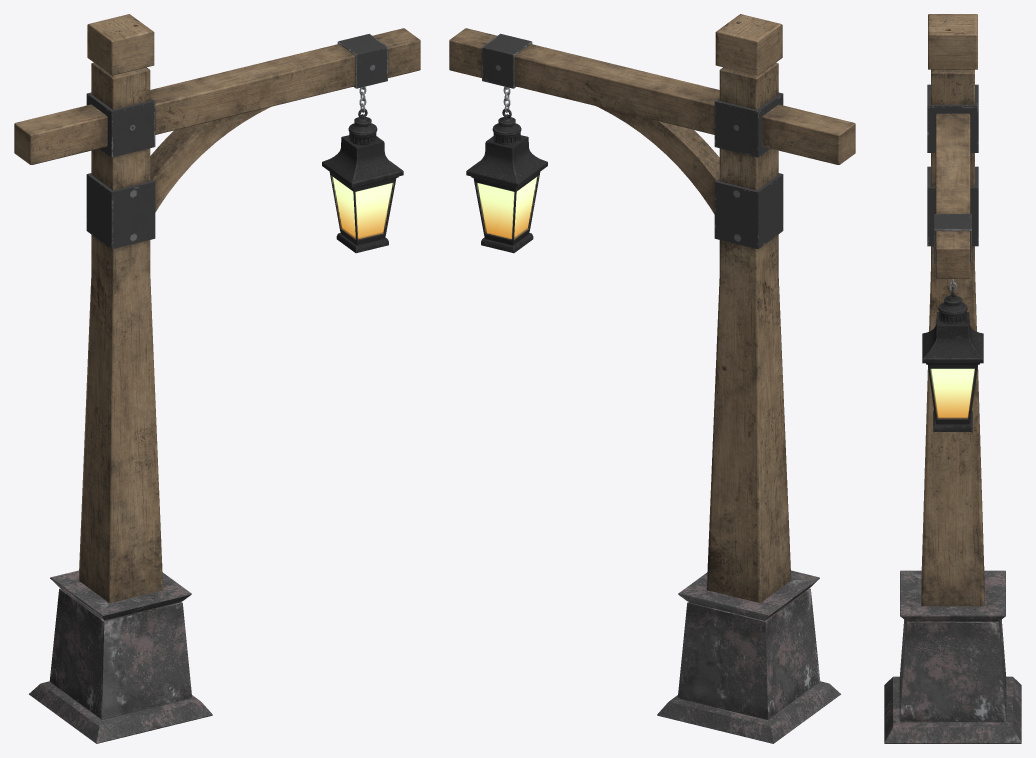
3 renders of one model, left to right at view 1: azimuth 30°, elevation 25°; view 2: azimuth 150°, elevation 25°; view 3: azimuth 270°, elevation 25°, orthographic.
Parts seen in each view (by area): view 1: LanternPole_Body, LanternPole_Lantern; view 2: LanternPole_Body, LanternPole_Lantern; view 3: LanternPole_Body, LanternPole_Lantern.
Boxes of the visible parts, box(x1,y1,x2,y2) form: LanternPole_Body: box(14, 14, 420, 743); LanternPole_Lantern: box(322, 108, 403, 253); LanternPole_Body: box(449, 14, 855, 743); LanternPole_Lantern: box(466, 108, 547, 253); LanternPole_Body: box(884, 14, 1021, 743); LanternPole_Lantern: box(922, 287, 983, 431).
Bounding box in the file's own units: 151 × 250 × 45.12.
Materials: 1 (1 with a texture image).
